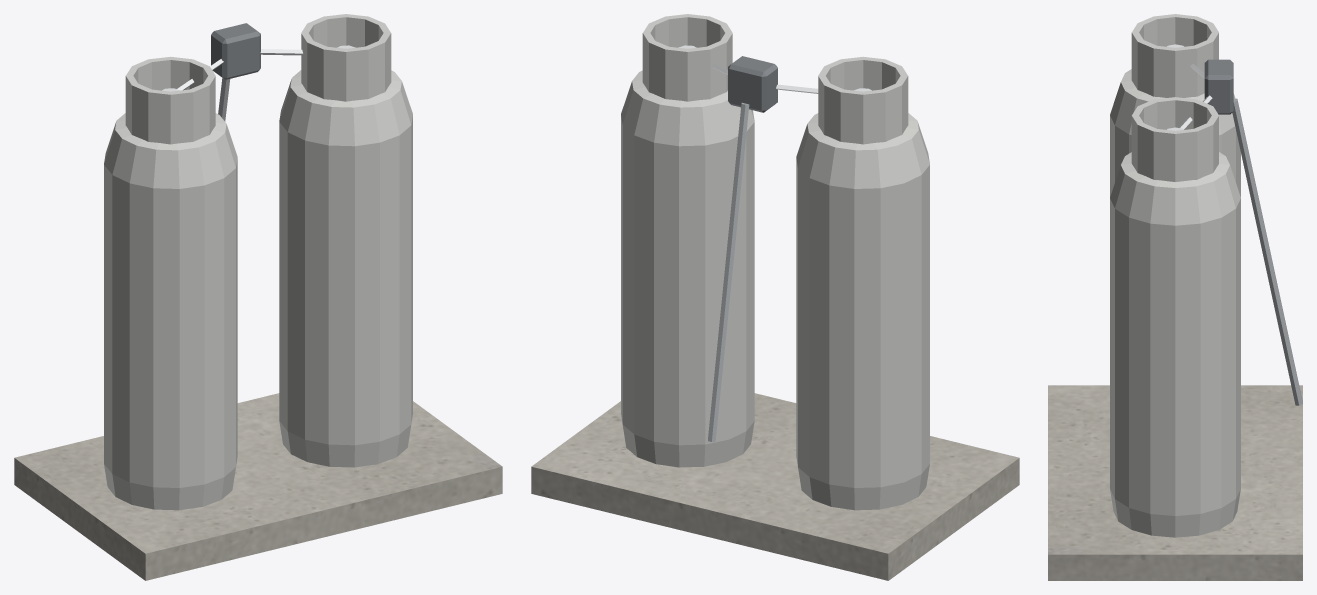
Rendered from propane.glb.
3 renders of one model, left to right at view 1: azimuth 30°, elevation 25°; view 2: azimuth 150°, elevation 25°; view 3: azimuth 270°, elevation 25°, orthographic. The views are drawn at different scales.
Visible parts, largest first — view 1: propane_propane, propane_concrete, propane_steel_d; view 2: propane_propane, propane_concrete, propane_steel, propane_steel_d; view 3: propane_propane, propane_concrete, propane_steel, propane_steel_d.
Part boxes in pixels (x1,y1,x2,y2): propane_propane: (104,14,412,510); propane_concrete: (14,393,502,580); propane_steel_d: (211,23,260,79); propane_propane: (621,14,929,510); propane_concrete: (531,393,1019,580); propane_steel: (708,102,749,441); propane_steel_d: (728,56,777,112); propane_propane: (1110,14,1240,537); propane_concrete: (1048,385,1302,580); propane_steel: (1232,98,1302,405); propane_steel_d: (1204,59,1233,114).
Bounding box in the file's own units: 1.1 × 1.3 × 0.7002.
5 materials, 1 textured.
